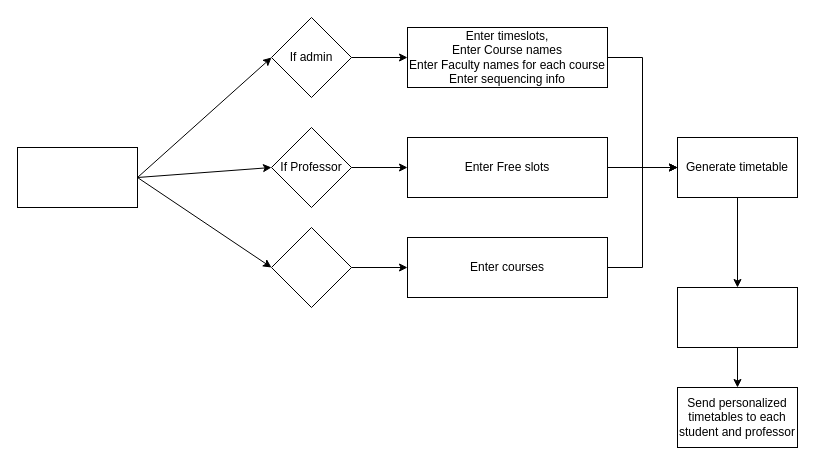
Some shapes in this 815 by 465 pixel diagram are drawn without their labels. The box of each missing label's shape, as (x1, y1, x2, y2) in pixels:
Enter email id using google auth: (16, 146, 138, 208)
If Student: (270, 226, 352, 308)
Wait for admin approval/modification: (676, 286, 798, 348)
